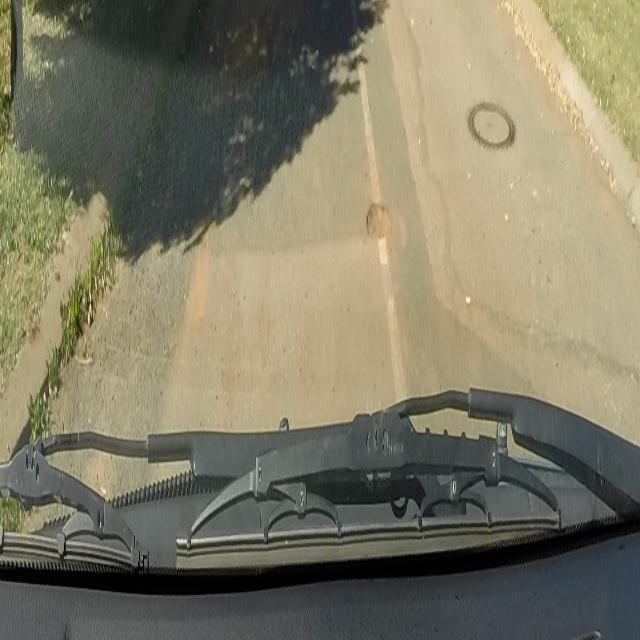pothole: (365, 192, 391, 240)
